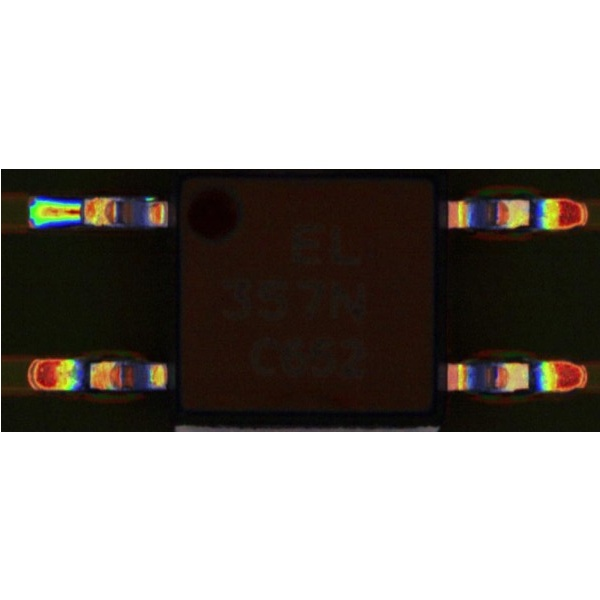Bad_podu: (64, 204, 90, 220)
